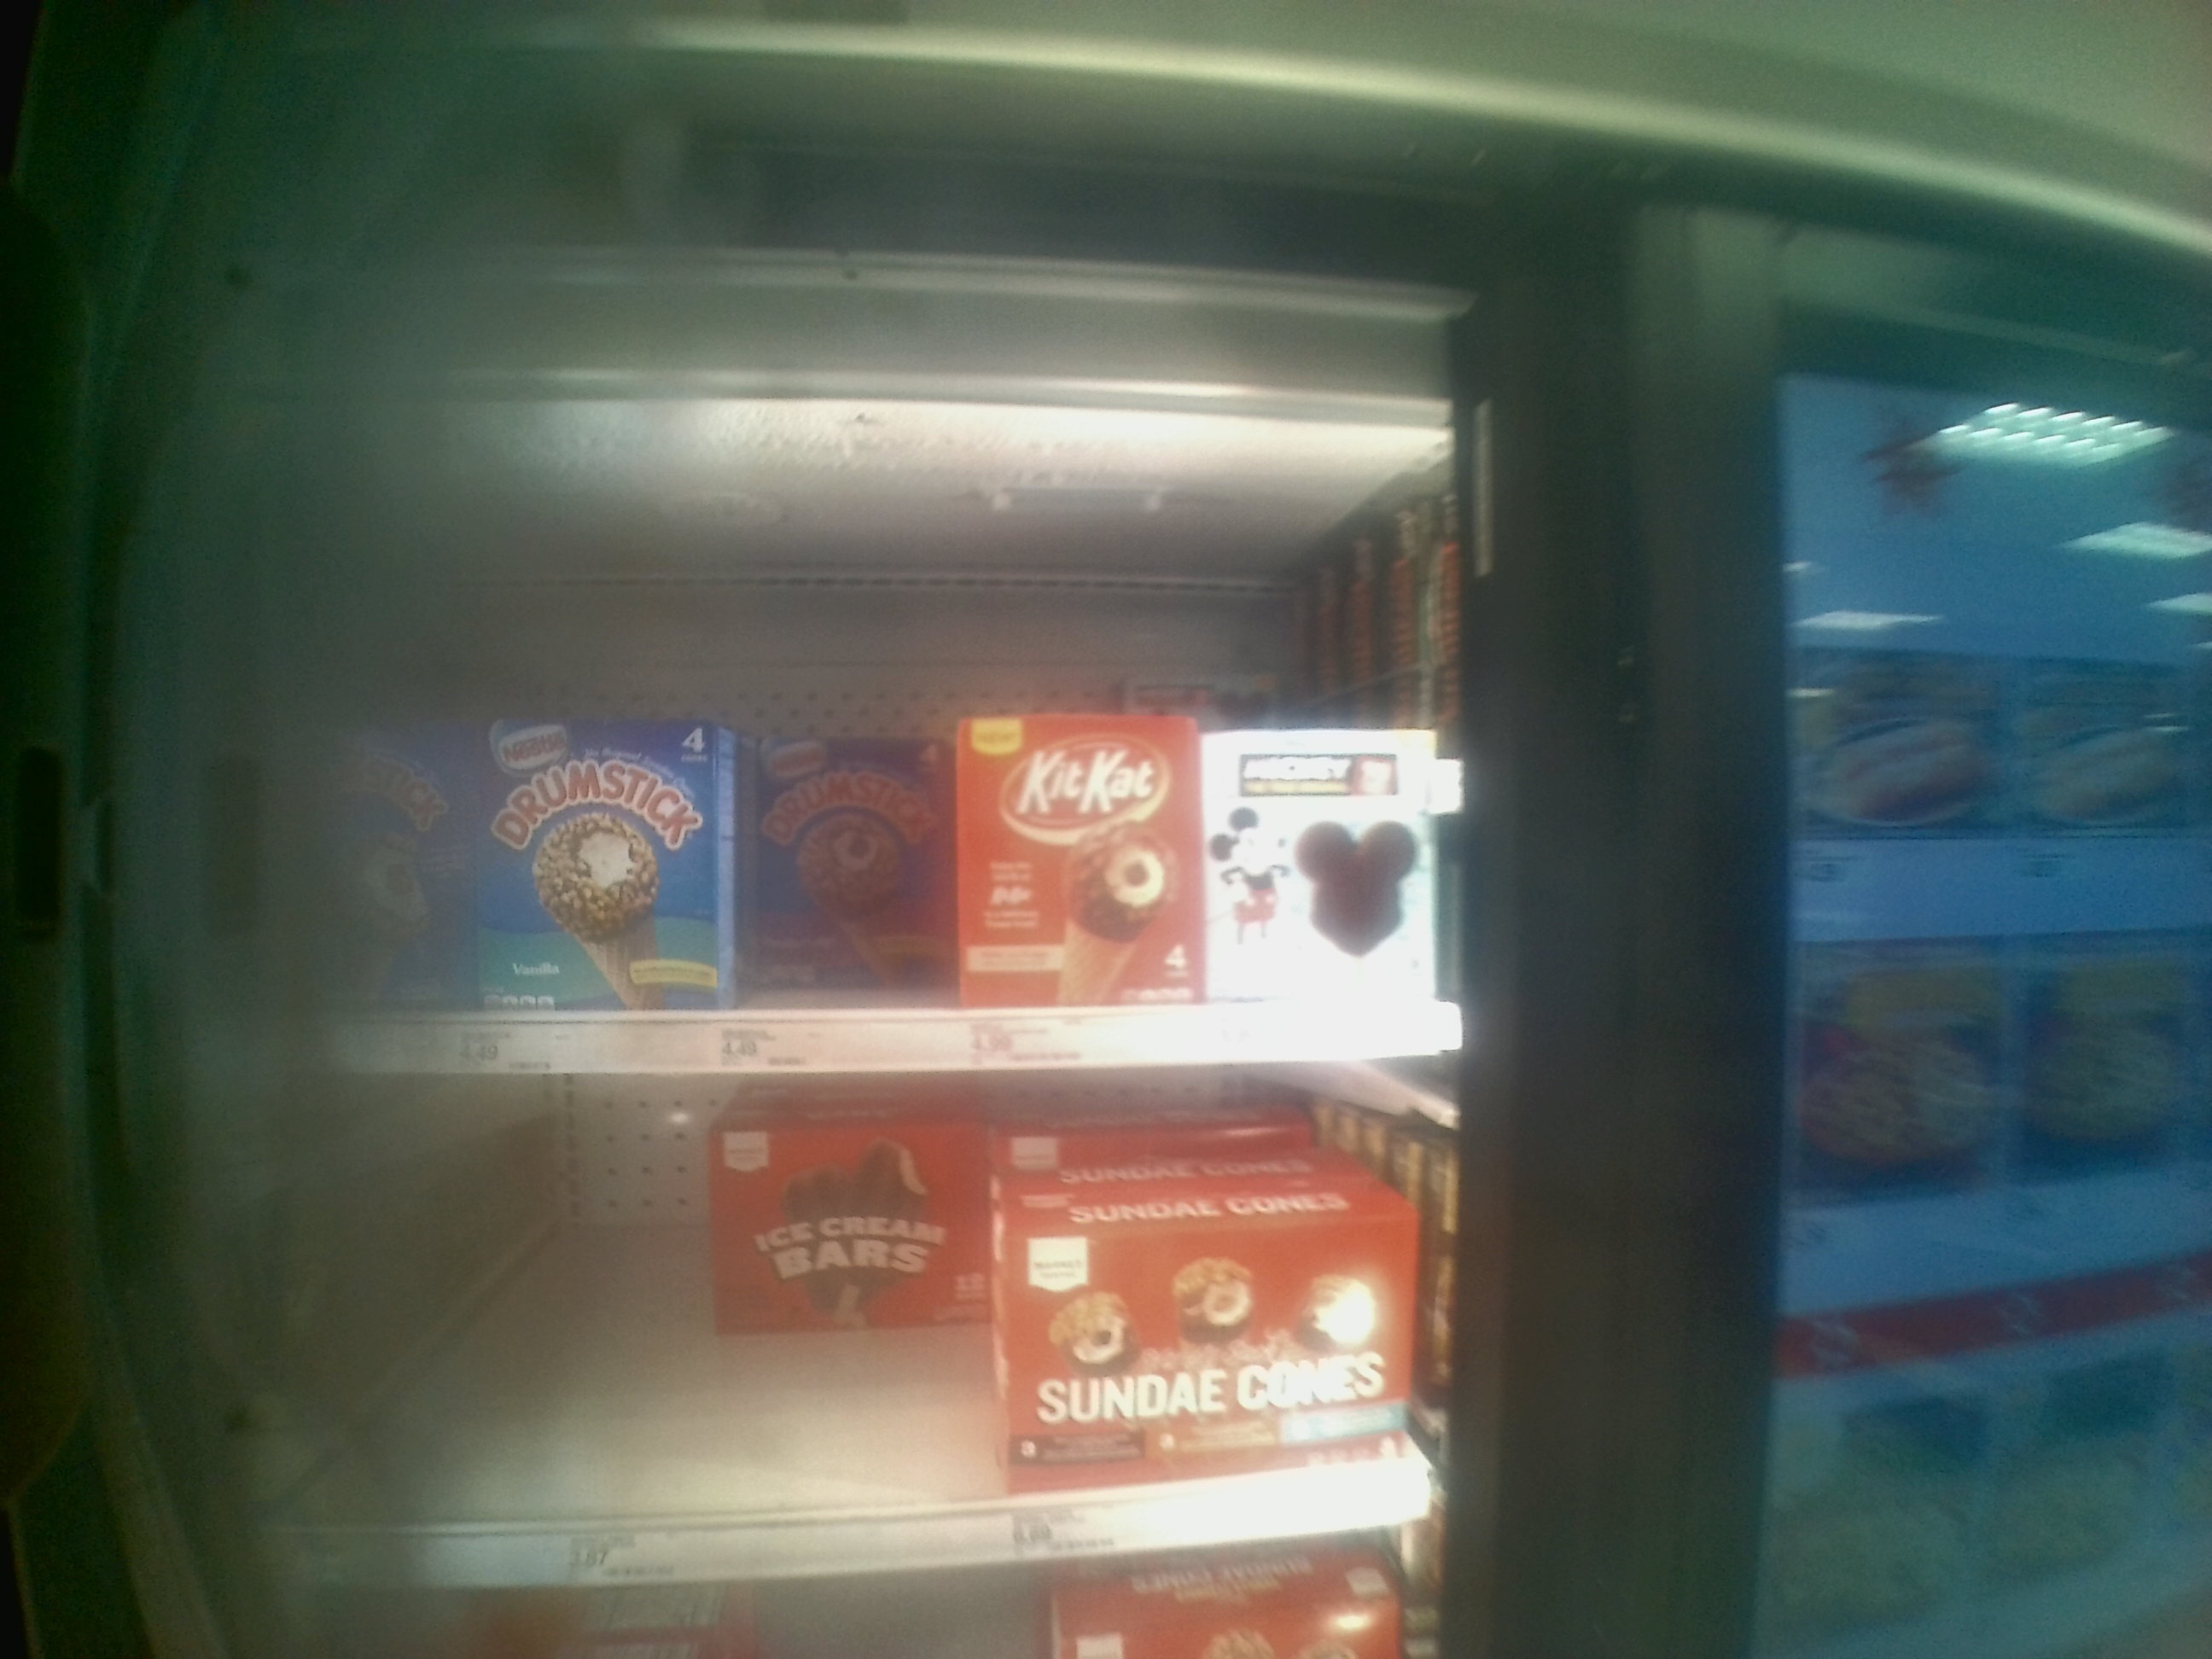frozen-food-shelf: (179, 403, 1484, 1073), (178, 1075, 1475, 1584)
